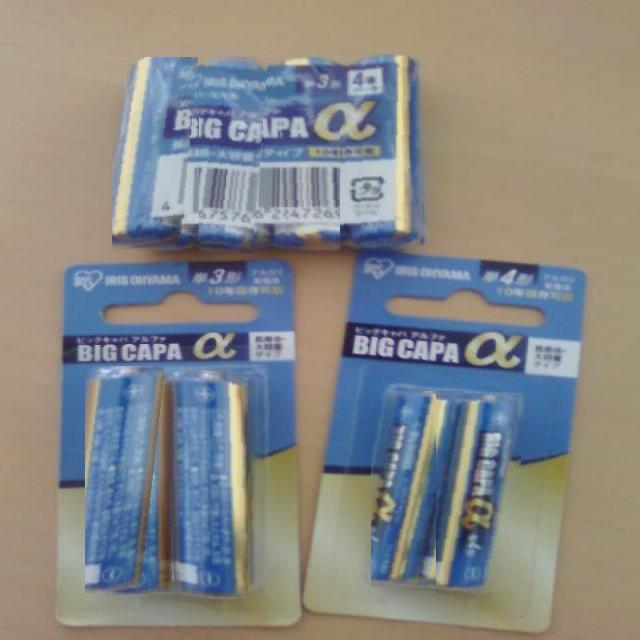battery: (85, 366, 166, 596), (371, 391, 464, 588), (169, 370, 248, 600), (436, 393, 524, 596), (340, 54, 427, 254), (112, 57, 199, 253), (276, 56, 350, 252), (199, 55, 268, 254)
